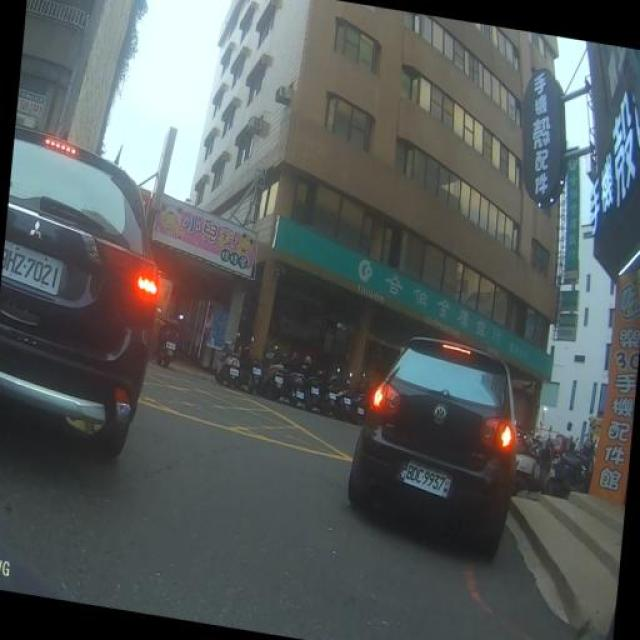illegalparking: (328, 322, 538, 588)
